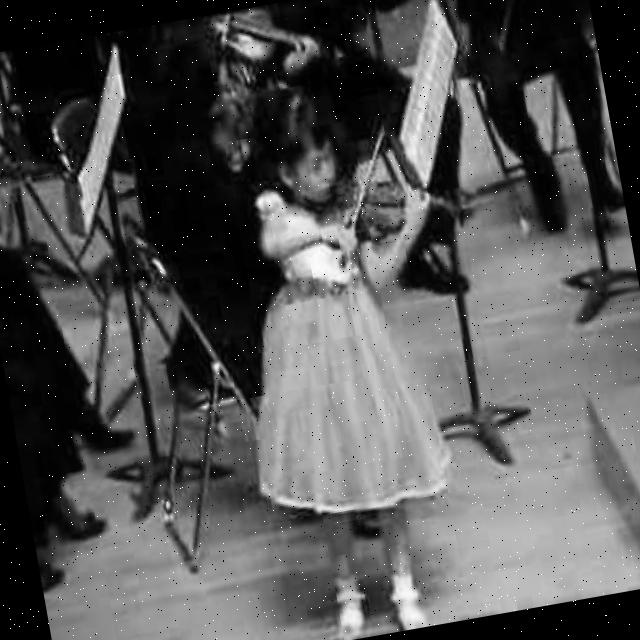violin: (305, 150, 462, 250), (199, 0, 350, 93)
